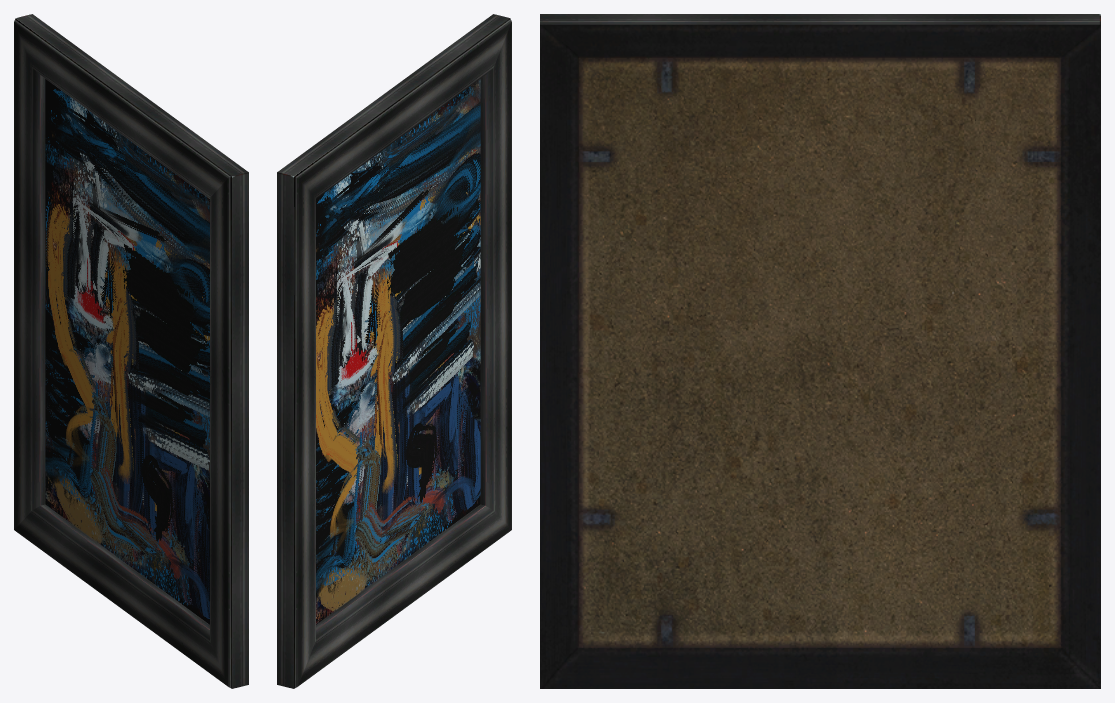
Rendered from painting_kitsch_02_wau.dae.
The picture shows the model from 3 angles, left to right: view 1: azimuth 30°, elevation 25°; view 2: azimuth 150°, elevation 25°; view 3: azimuth 270°, elevation 25°; orthographic projection. The views are drawn at different scales.
Visible parts, largest first — view 1: painting_kitsch_02_Mesh; view 2: painting_kitsch_02_Mesh; view 3: Mesh__2_, painting_kitsch_02_Mesh.
Boxes of the visible parts, x1,y1,x2,y2 form: painting_kitsch_02_Mesh: (14, 14, 248, 688); painting_kitsch_02_Mesh: (277, 14, 511, 688); Mesh__2_: (540, 24, 1100, 688); painting_kitsch_02_Mesh: (540, 14, 1100, 24).
Size of the model in its own units: 5.36 by 134 by 103.
